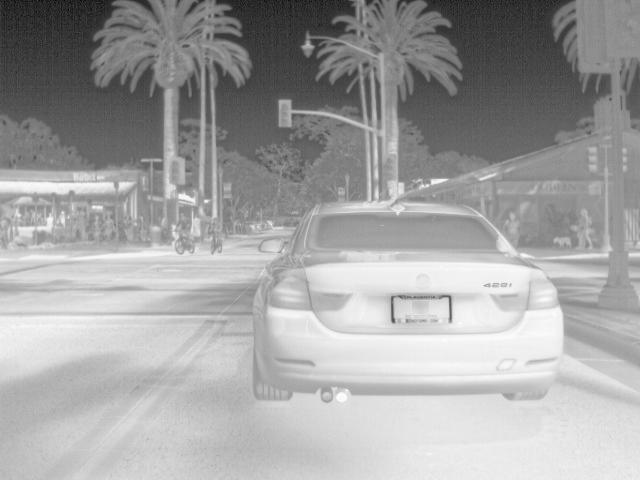car: (250, 200, 563, 401), (245, 220, 258, 232), (264, 218, 276, 230), (257, 220, 265, 230)
dog: (552, 236, 572, 250)
person: (574, 206, 594, 250), (501, 211, 522, 251), (99, 212, 115, 242), (90, 213, 104, 243), (122, 212, 135, 242), (173, 211, 189, 235), (138, 212, 149, 239), (210, 216, 222, 238), (43, 210, 54, 228), (57, 209, 66, 226)
